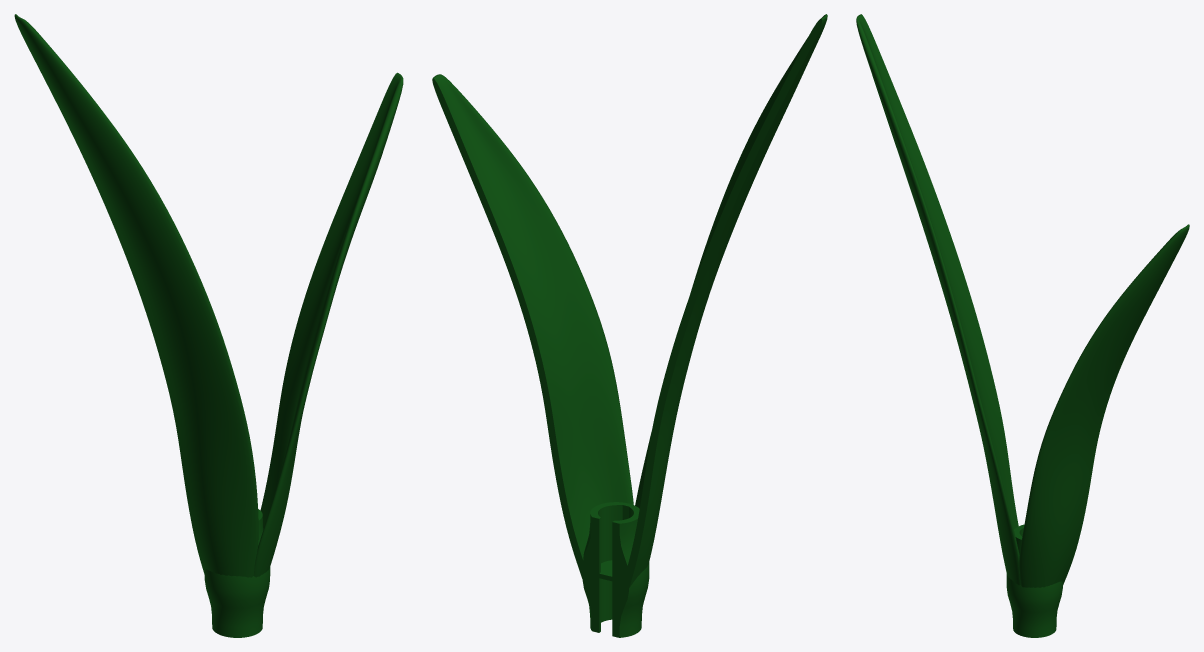
The model's file is c_tulip_leaf_b_l.glb.
The picture shows the model from 3 angles, left to right: view 1: azimuth 30°, elevation 25°; view 2: azimuth 150°, elevation 25°; view 3: azimuth 330°, elevation 25°; orthographic projection. The views are drawn at different scales.
Parts seen in each view (by area): view 1: tulip_leaf_b_l1, tulip_leaf_b_l2, connector; view 2: tulip_leaf_b_l2, tulip_leaf_b_l1, connector; view 3: tulip_leaf_b_l2, tulip_leaf_b_l1, connector.
Part boxes in pixels (x1,y1,x2,y2): tulip_leaf_b_l1: (14,14,258,577); tulip_leaf_b_l2: (253,72,403,577); connector: (204,509,270,637); tulip_leaf_b_l2: (432,74,633,578); tulip_leaf_b_l1: (627,14,827,587); connector: (582,502,649,637); tulip_leaf_b_l2: (1018,224,1189,587); tulip_leaf_b_l1: (856,14,1020,585); connector: (1006,524,1062,637).
Bounding box in the file's own units: 0.0896 × 0.1464 × 0.0167.
